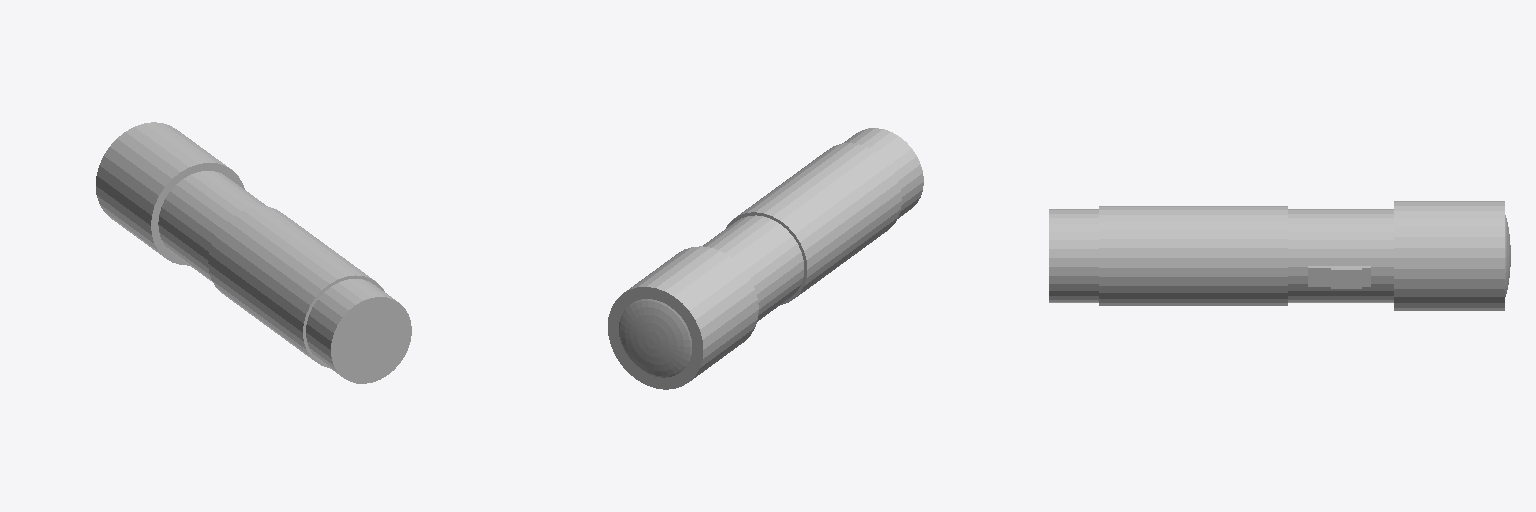
File: laterna.obj
3 renders of one model, left to right at view 1: azimuth 30°, elevation 25°; view 2: azimuth 150°, elevation 25°; view 3: azimuth 270°, elevation 25°, orthographic.
Parts seen in each view (by area): view 1: Cylinder.001; view 2: Cylinder.001; view 3: Cylinder.001.
Part boxes in pixels (x1,y1,x2,y2): Cylinder.001: (96, 122, 411, 383); Cylinder.001: (608, 128, 923, 389); Cylinder.001: (1049, 201, 1510, 310).
Bounding box in the file's own units: 0.1339 × 0.1339 × 0.5581.